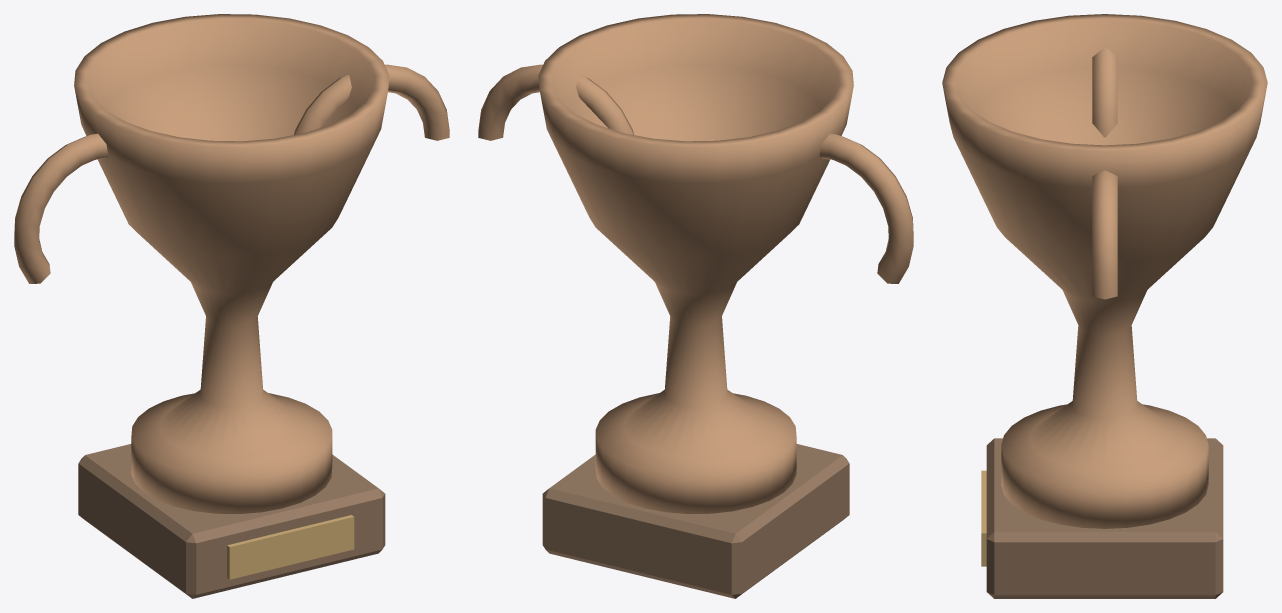
The model's file is Garage_Cup_A.glb.
The picture shows the model from 3 angles, left to right: view 1: azimuth 30°, elevation 25°; view 2: azimuth 150°, elevation 25°; view 3: azimuth 270°, elevation 25°; orthographic projection. The views are drawn at different scales.
Visible parts, largest first — view 1: Garage_Cup_A; view 2: Garage_Cup_A; view 3: Garage_Cup_A.
Part boxes in pixels (x1,y1,x2,y2): Garage_Cup_A: (14,14,449,598); Garage_Cup_A: (478,14,913,598); Garage_Cup_A: (942,14,1267,598).
Size of the model in its own units: 0.4022 by 0.4025 by 0.253.
